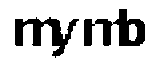b: (119, 6, 148, 52)
m: (9, 16, 58, 48), (82, 18, 125, 50)
y: (51, 18, 78, 56)
